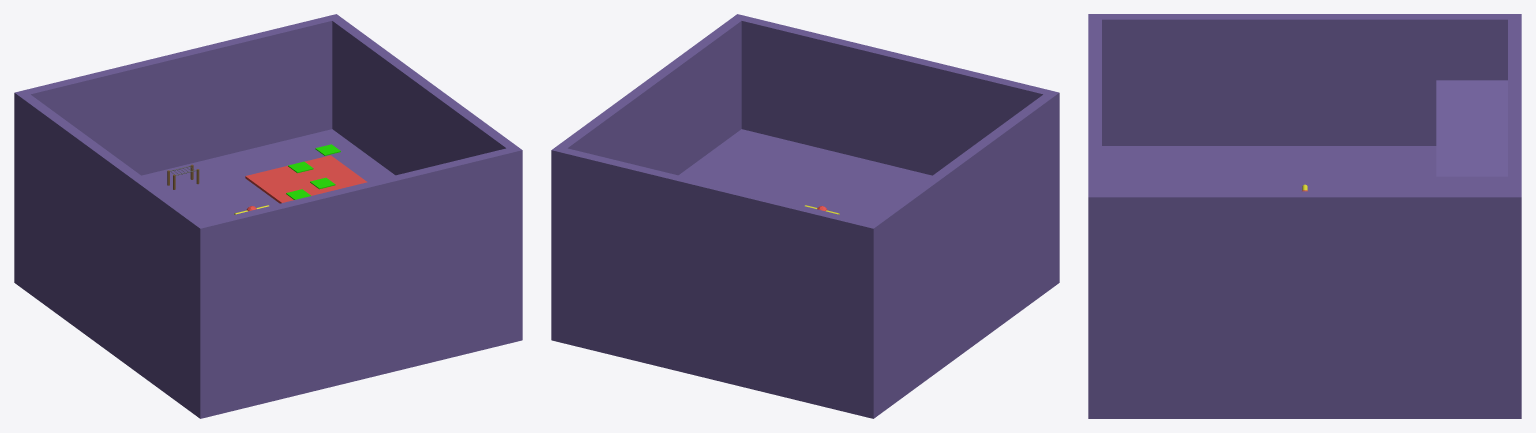
File: Playground.glb
3 views of the same model, side by side, from view 1: azimuth 30°, elevation 25°; view 2: azimuth 150°, elevation 25°; view 3: azimuth 270°, elevation 25° (orthographic). The views are drawn at different scales.
Parts seen in each view (by area): view 1: Cube-col, Cube.005-col; view 2: Cube-col; view 3: Cube-col.
Part boxes in pixels (x1=…): Cube-col: x1=14, y1=14, x2=522, y2=418; Cube.005-col: x1=245, y1=155, x2=367, y2=203; Cube-col: x1=551, y1=14, x2=1059, y2=418; Cube-col: x1=1088, y1=14, x2=1521, y2=418.
Bounding box in the file's own units: 11.86 × 6.69 × 11.86.
